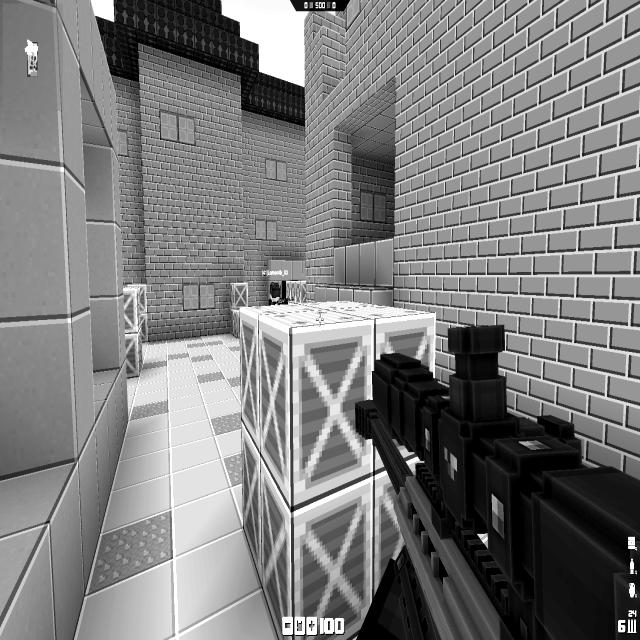Head: (270, 281, 280, 301)
Player: (269, 280, 294, 304)
